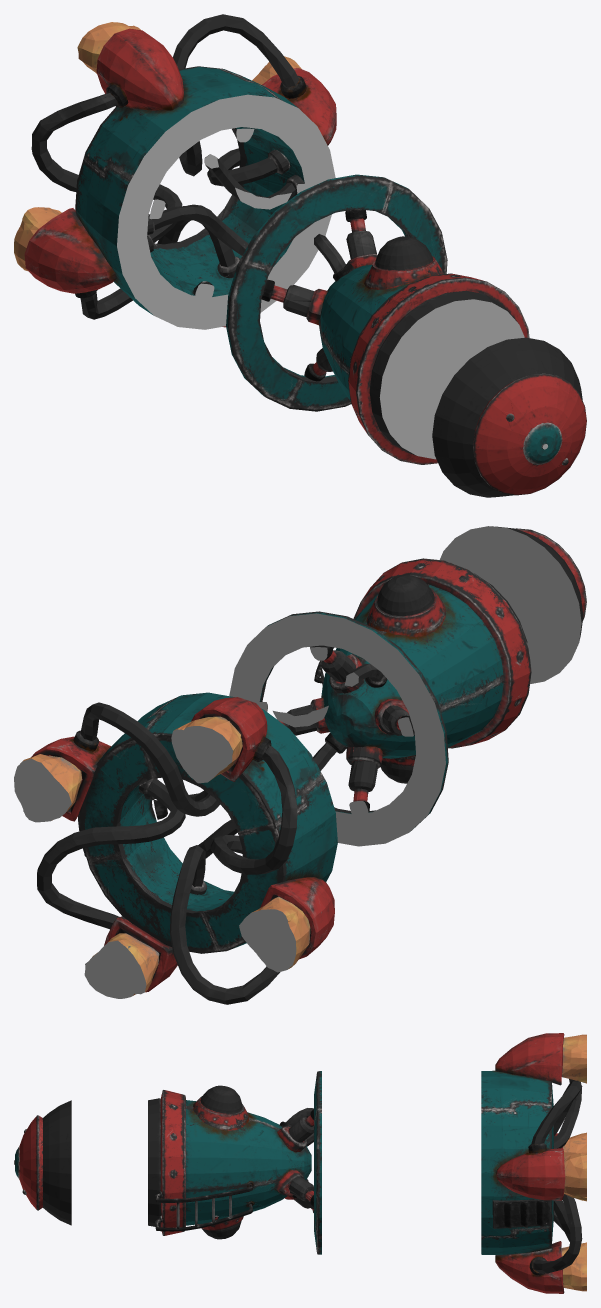
The model's file is Rocket Rest.obj.
The picture shows the model from 3 angles, top to bottom: view 1: azimuth 30°, elevation 25°; view 2: azimuth 150°, elevation 25°; view 3: azimuth 270°, elevation 25°; orthographic projection. The views are drawn at different scales.
Parts seen in each view (by area): view 1: Object.4, Object.2, Object.1; view 2: Object.4, Object.2, Object.1, Object.3; view 3: Object.4, Object.2, Object.1.
Part boxes in pixels (left/top/right/bottom): Object.4: left=14, top=14, right=336, bottom=329; Object.2: left=226, top=174, right=529, bottom=464; Object.1: left=432, top=337, right=586, bottom=497; Object.4: left=14, top=692, right=337, bottom=1004; Object.2: left=229, top=558, right=531, bottom=846; Object.1: left=440, top=526, right=586, bottom=683; Object.3: left=273, top=705, right=328, bottom=727; Object.4: left=481, top=1033, right=586, bottom=1293; Object.2: left=148, top=1071, right=321, bottom=1254; Object.1: left=14, top=1100, right=71, bottom=1225.
Size of the model in its own units: 31.58 by 31.53 by 72.91.
